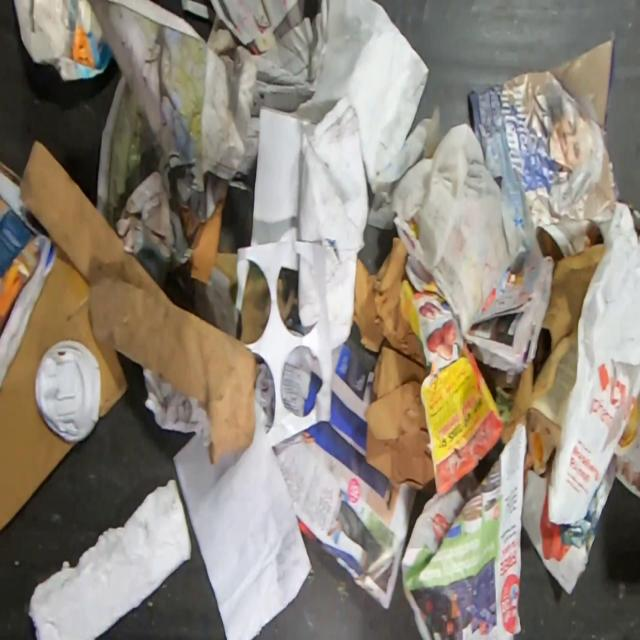cardboard: (17, 136, 256, 464), (0, 247, 128, 531)
rigid_plastic: (34, 339, 103, 446)
